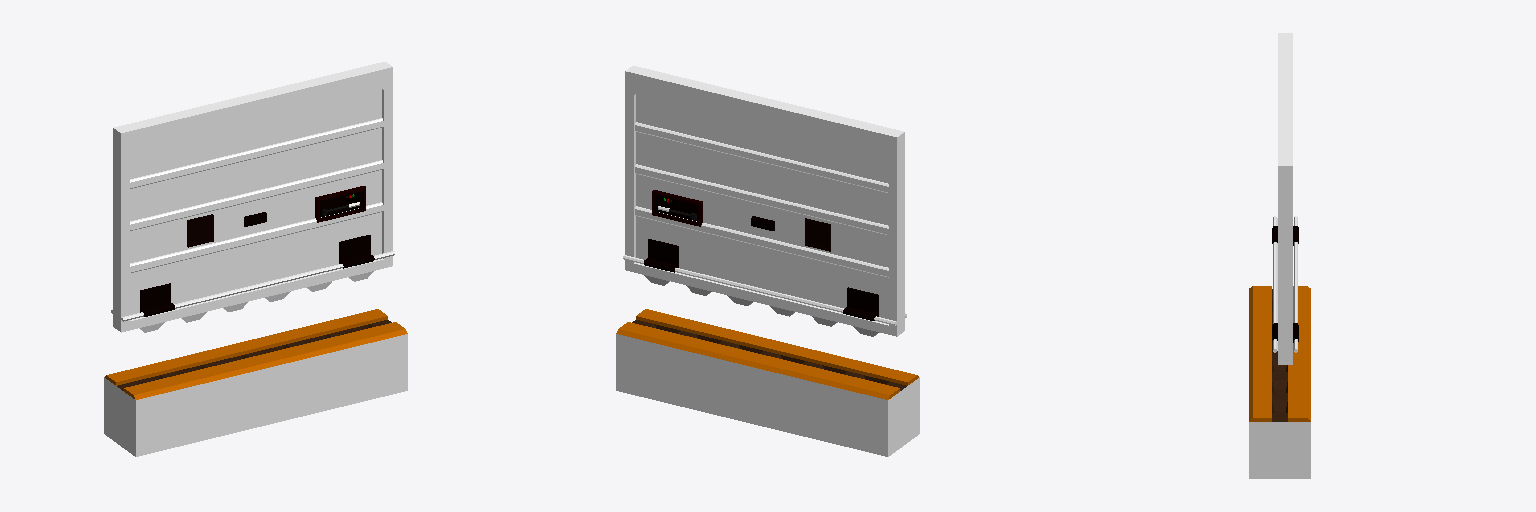
Rendered from secure_access_door.obj.
3 views of the same model, side by side, from view 1: azimuth 30°, elevation 25°; view 2: azimuth 150°, elevation 25°; view 3: azimuth 270°, elevation 25° (orthographic).
Visible parts, largest first — view 1: Cube_Cube.002, Cube.004_Cube.009; view 2: Cube_Cube.002, Cube.004_Cube.009; view 3: Cube.004_Cube.009, Cube_Cube.002.
Boxes of the visible parts, x1=… form: Cube_Cube.002: x1=111, y1=62, x2=394, y2=332; Cube.004_Cube.009: x1=104, y1=309, x2=407, y2=456; Cube_Cube.002: x1=623, y1=66, x2=906, y2=336; Cube.004_Cube.009: x1=616, y1=309, x2=919, y2=456; Cube.004_Cube.009: x1=1249, y1=286, x2=1310, y2=478; Cube_Cube.002: x1=1272, y1=33, x2=1298, y2=364.
Size of the model in its own units: 5 by 5.5 by 1.